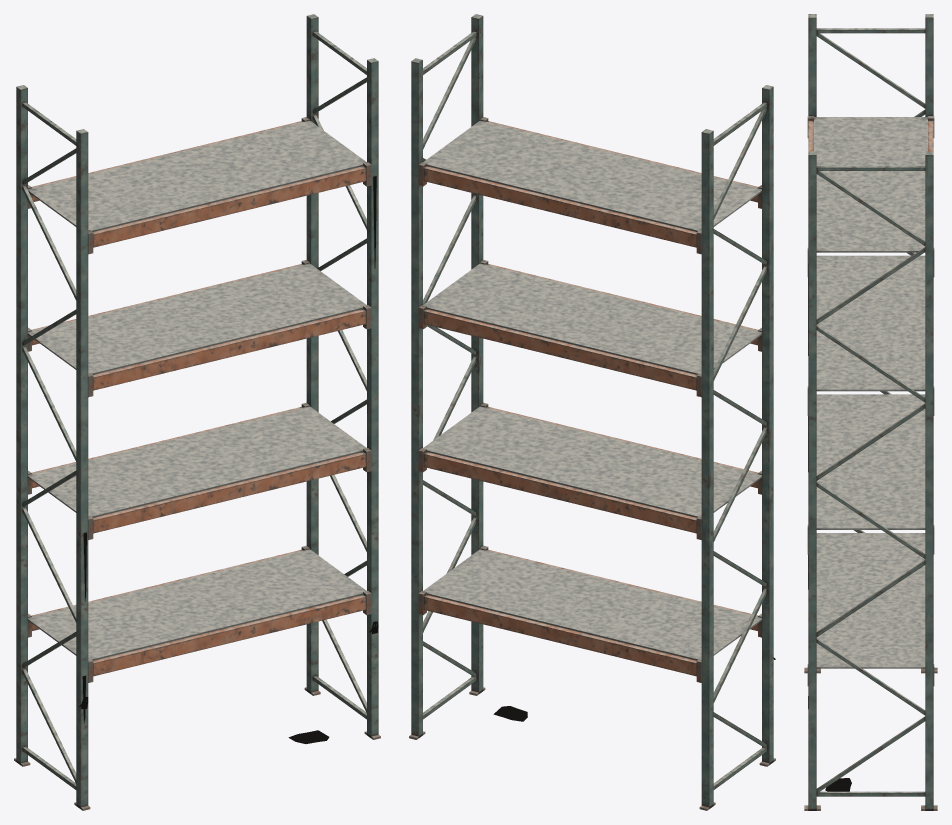
Rendered from rack_bay_empty.fbx.
3 views of the same model, side by side, from view 1: azimuth 30°, elevation 25°; view 2: azimuth 150°, elevation 25°; view 3: azimuth 270°, elevation 25° (orthographic). The views are drawn at different scales.
Parts seen in each view (by area): view 1: Body; view 2: Body; view 3: Body.
Boxes of the visible parts, x1,y1,x2,y2 form: Body: [14, 14, 380, 810]; Body: [409, 14, 775, 810]; Body: [804, 14, 937, 810].
Bounding box in the file's own units: 12.08 × 26 × 4.8.
Materials: 1 (1 with a texture image).
